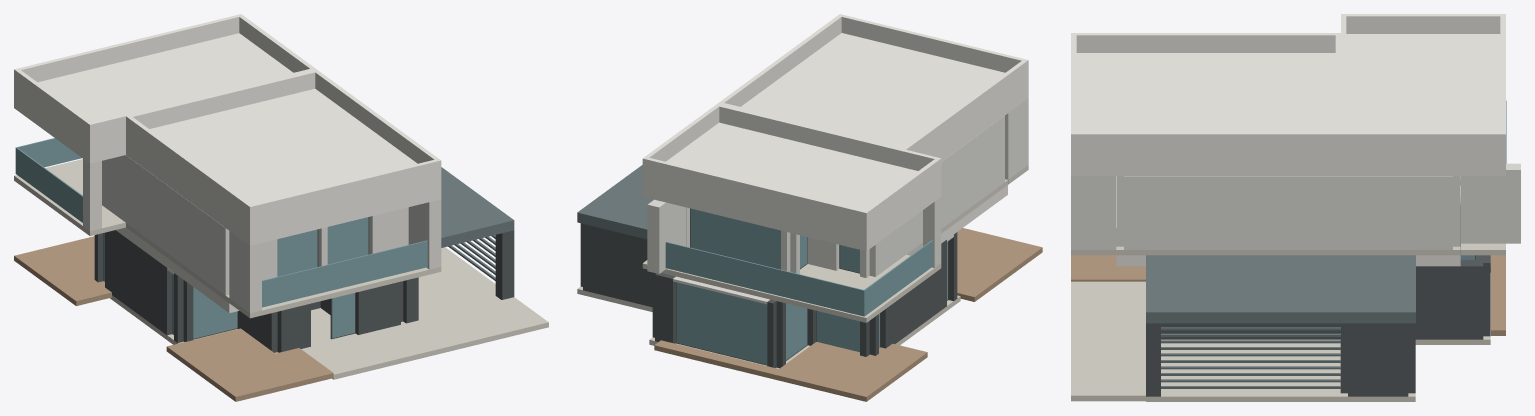
The picture shows the model from 3 angles, left to right: view 1: azimuth 30°, elevation 25°; view 2: azimuth 150°, elevation 25°; view 3: azimuth 270°, elevation 25°; orthographic projection. The views are drawn at different scales.
Parts seen in each view (by area): view 1: main-roof-1, main-roof-0, upper/west/end, carport-apron, balcony-glass-0, ground/kitchen-west/pier-1, parapet-0-3, front-deck, rear-west, parapet-1-2, ground/slab/2, parapet-1-3 (+32 smaller); view 2: main-roof-1, main-roof-0, upper/west/end, ground/living-rear/glass-0, rear-west, balcony-glass-2, ground/store-rear/end, parapet-0-3, parapet-0-2, upper/primary-rear/glass-0, parapet-1-2, carport-roof (+28 smaller); view 3: main-roof-1, upper/east/end, main-roof-0, carport-roof, carport-apron, ground/slab/2, ground/east/end, parapet-1-1, parapet-1-0, ground/store-east/end, balcony-frame-3, balcony-frame-1 (+30 smaller).
Part boxes in pixels (left/top/right/bottom): main-roof-1: left=126, top=89, right=441, bottom=245; main-roof-0: left=14, top=33, right=293, bottom=163; upper/west/end: left=102, top=155, right=229, bottom=295; carport-apron: left=301, top=297, right=548, bottom=379; balcony-glass-0: left=262, top=240, right=427, bottom=307; ground/kitchen-west/pier-1: left=105, top=230, right=172, bottom=335; parapet-0-3: left=14, top=14, right=243, bottom=86; front-deck: left=201, top=348, right=333, bottom=401; rear-west: left=14, top=236, right=111, bottom=305; parapet-1-2: left=248, top=159, right=441, bottom=222; ground/slab/2: left=418, top=247, right=501, bottom=320; parapet-1-3: left=126, top=70, right=315, bottom=133; main-roof-1: left=741, top=33, right=1028, bottom=161; main-roof-0: left=642, top=122, right=941, bottom=251; upper/west/end: left=869, top=116, right=1004, bottom=276; ground/living-rear/glass-0: left=676, top=282, right=767, bottom=364; rear-west: left=772, top=342, right=927, bottom=401; balcony-glass-2: left=665, top=242, right=864, bottom=316; ground/store-rear/end: left=583, top=224, right=652, bottom=307; parapet-0-3: left=642, top=157, right=868, bottom=228; parapet-0-2: left=715, top=104, right=941, bottom=175; upper/primary-rear/glass-0: left=690, top=208, right=780, bottom=269; parapet-1-2: left=841, top=15, right=1026, bottom=72; carport-roof: left=577, top=165, right=653, bottom=239; main-roof-1: left=1071, top=53, right=1340, bottom=176; upper/east/end: left=1124, top=176, right=1452, bottom=249; main-roof-0: left=1341, top=34, right=1505, bottom=176; carport-roof: left=1146, top=255, right=1415, bottom=323; carport-apron: left=1071, top=281, right=1145, bottom=401; ground/slab/2: left=1146, top=339, right=1415, bottom=401; ground/east/end: left=1161, top=260, right=1483, bottom=339; parapet-1-1: left=1071, top=132, right=1340, bottom=151; parapet-1-0: left=1071, top=33, right=1340, bottom=52; ground/store-east/end: left=1348, top=323, right=1408, bottom=396; balcony-frame-3: left=1461, top=163, right=1520, bottom=243; balcony-frame-1: left=1071, top=176, right=1115, bottom=249.
Bounding box in the file's own units: 14.01 × 7.75 × 15.
